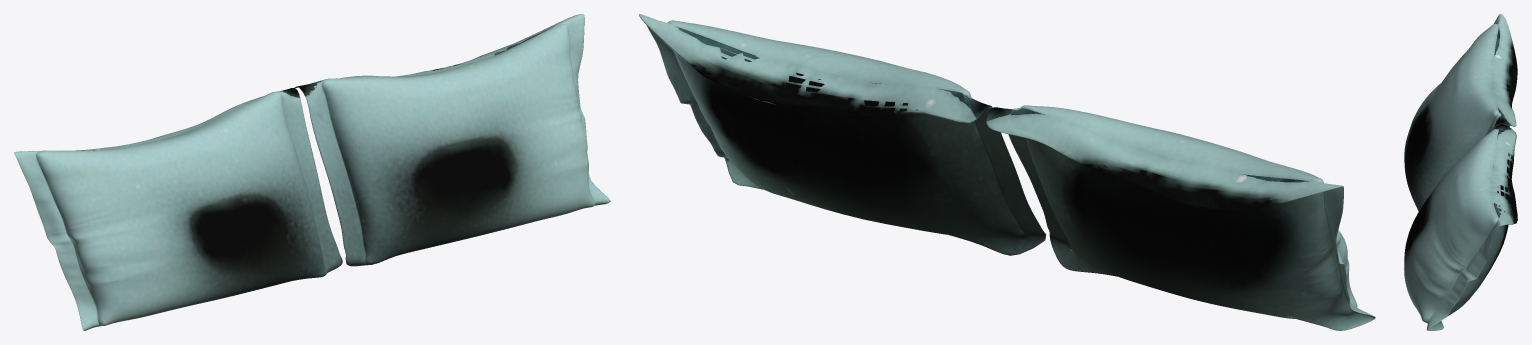
The model's file is chuang01.12.obj.
3 views of the same model, side by side, from view 1: azimuth 30°, elevation 25°; view 2: azimuth 150°, elevation 25°; view 3: azimuth 270°, elevation 25° (orthographic). The views are drawn at different scales.
Parts seen in each view (by area): view 1: 092; view 2: 092; view 3: 092.
Part boxes in pixels (x1=…): 092: x1=14, y1=14, x2=610, y2=330; 092: x1=639, y1=14, x2=1375, y2=330; 092: x1=1404, y1=14, x2=1517, y2=330.
Bounding box in the file's own units: 129 × 34.41 × 29.14.
